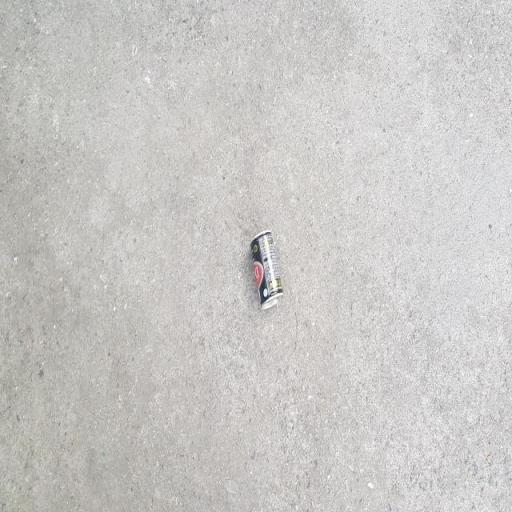metal: (232, 207, 290, 339)
